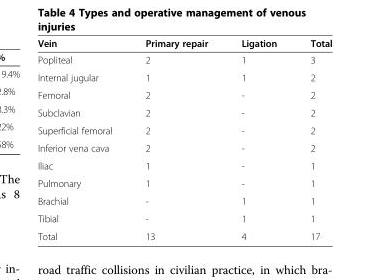table: (36, 37, 331, 241)
table column: (128, 37, 223, 241), (36, 37, 128, 241), (223, 37, 292, 241), (292, 37, 331, 241)
table column header: (36, 37, 331, 51)
table row: (36, 85, 331, 103), (36, 103, 331, 121), (36, 138, 331, 156), (36, 156, 331, 174), (36, 191, 331, 209), (36, 209, 331, 227), (36, 51, 331, 68), (36, 68, 331, 85), (36, 121, 331, 138), (36, 174, 331, 191), (36, 37, 331, 51), (36, 227, 331, 241)
